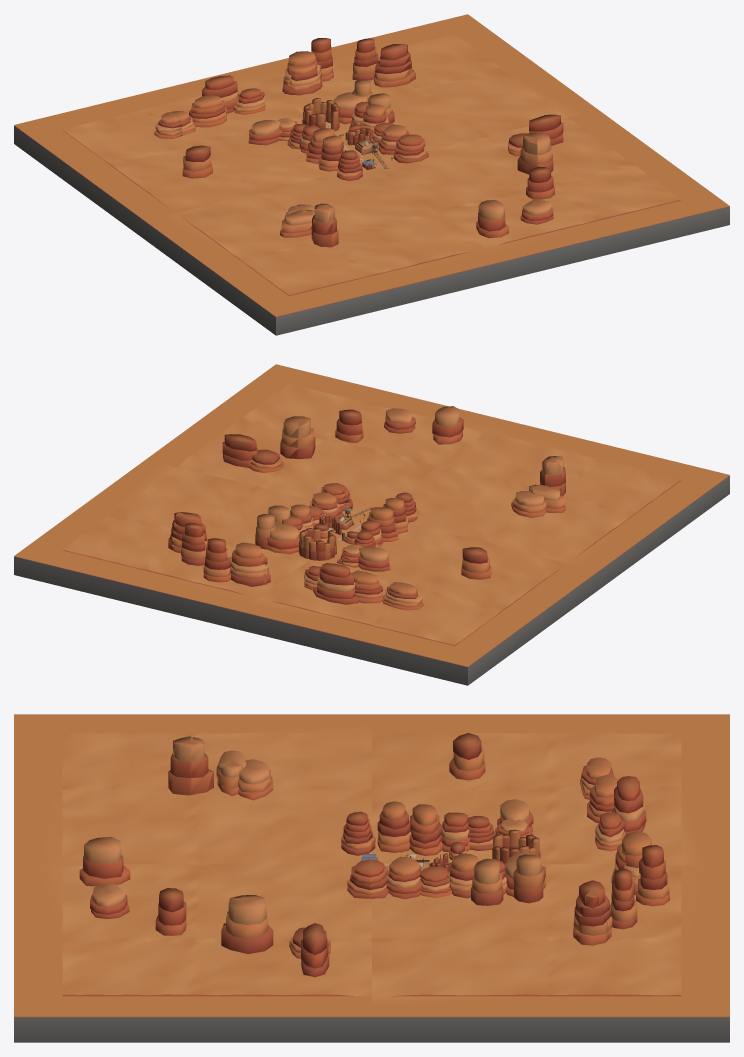
3 views of the same model, one above another, from view 1: azimuth 30°, elevation 25°; view 2: azimuth 150°, elevation 25°; view 3: azimuth 270°, elevation 25° (orthographic). The views are drawn at different scales.
Visible parts, largest first — view 1: near-placeholder; view 2: near-placeholder; view 3: near-placeholder.
Part boxes in pixels (x1,y1,x2,y2): near-placeholder: (14, 14, 729, 335); near-placeholder: (14, 364, 729, 685); near-placeholder: (14, 714, 729, 1042).
Bounding box in the file's own units: 500 × 58.2 × 500.
